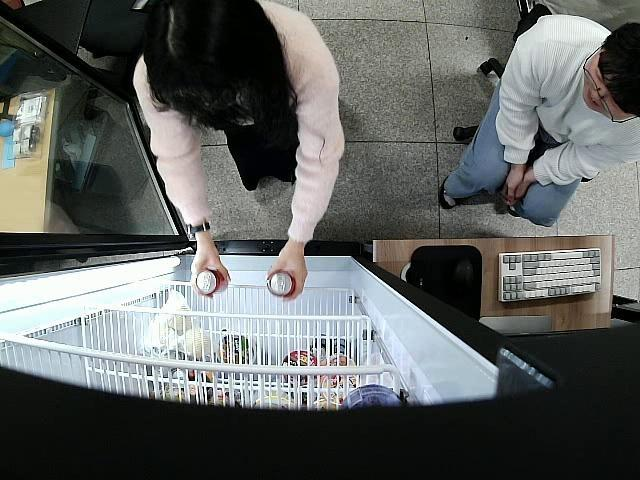11_cocaColaZero: (194, 269, 229, 296), (265, 272, 296, 298)
